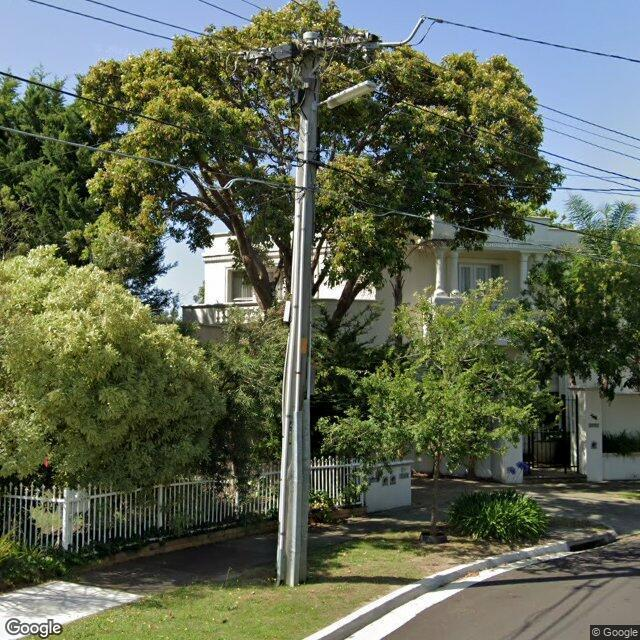crossarm: (244, 32, 374, 65)
streetlight: (314, 81, 378, 109)
timber-pole: (276, 31, 320, 586)
